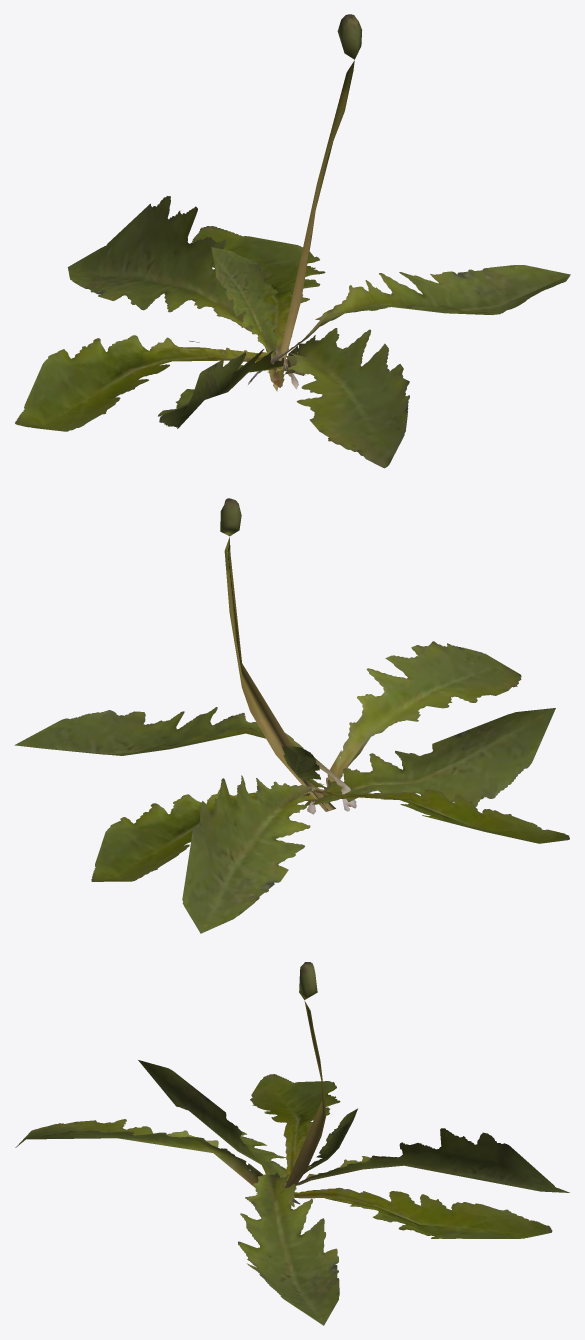
3 views of the same model, one above another, from view 1: azimuth 30°, elevation 25°; view 2: azimuth 150°, elevation 25°; view 3: azimuth 270°, elevation 25° (orthographic). The views are drawn at different scales.
Visible parts, largest first — view 1: dandelion_01__c_lod1; view 2: dandelion_01__c_lod1; view 3: dandelion_01__c_lod1.
Boxes of the visible parts, left/top/right/bottom form: dandelion_01__c_lod1: left=15, top=14, right=570, bottom=468; dandelion_01__c_lod1: left=14, top=498, right=569, bottom=933; dandelion_01__c_lod1: left=15, top=962, right=569, bottom=1325.
Bounding box in the file's own units: 0.1816 × 0.0995 × 0.1785.
1 material, 1 textured.
